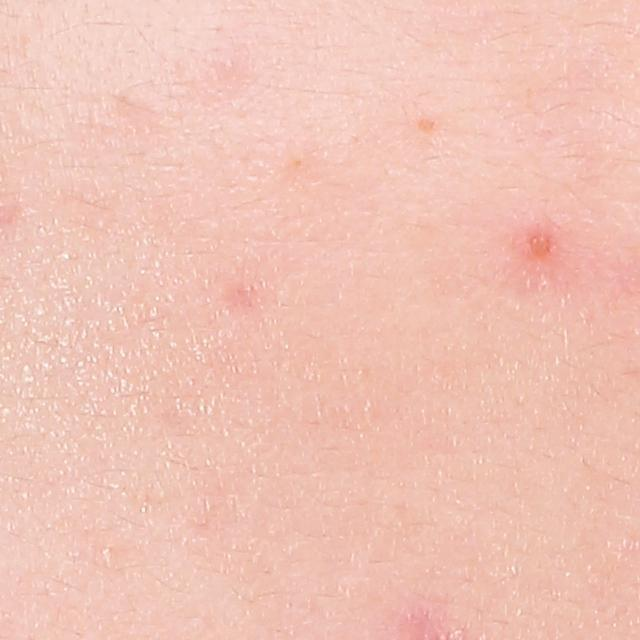papule: (523, 229, 565, 264)
